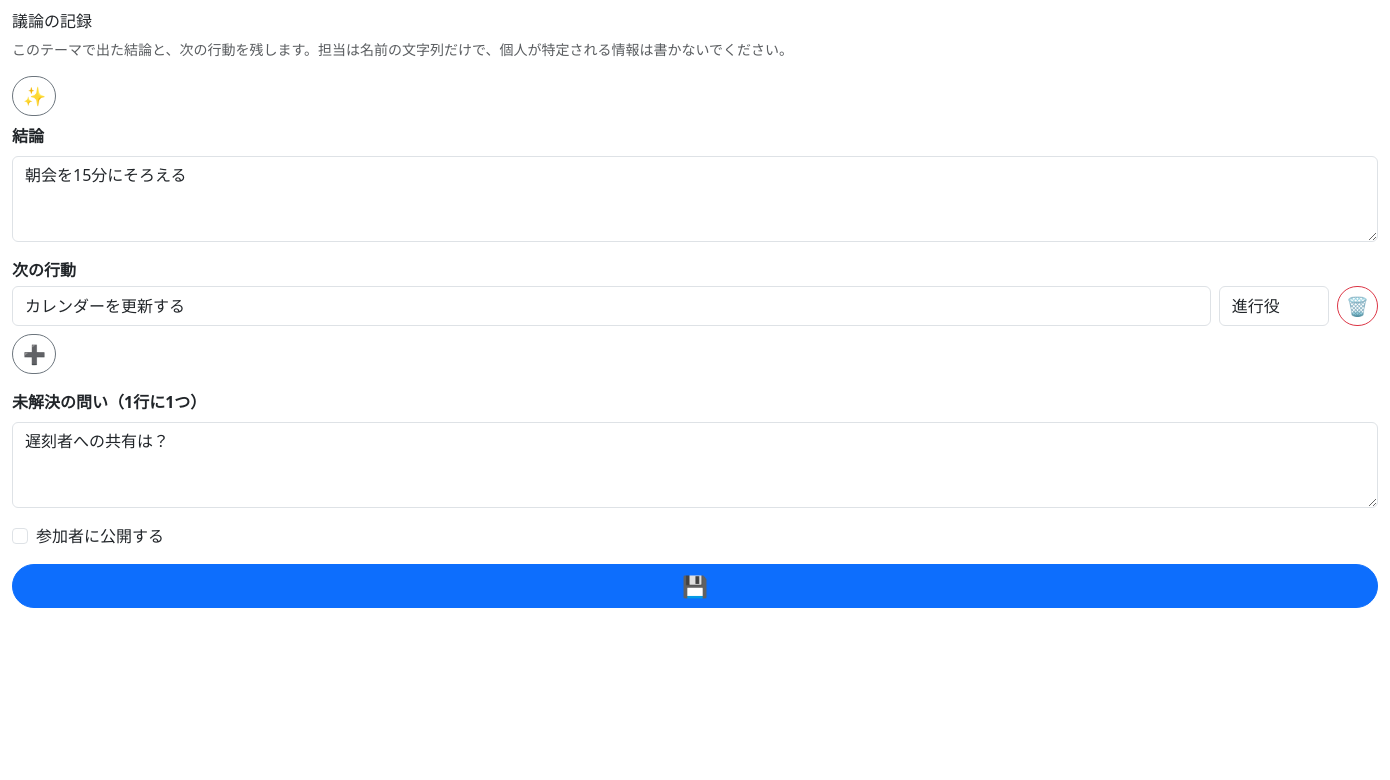
Test case: NotesEditor: 要約からの下書き › 取り込んでも、保存も公開もしない。AIの下書きと分かる注意を出し、既にある内容は消さない
The width and height of the screenshot is (1390, 780).
Click the button named "要約から下書きを取り込む".
click(34, 96)  # box top-left (12, 76), bottom-right (56, 116)
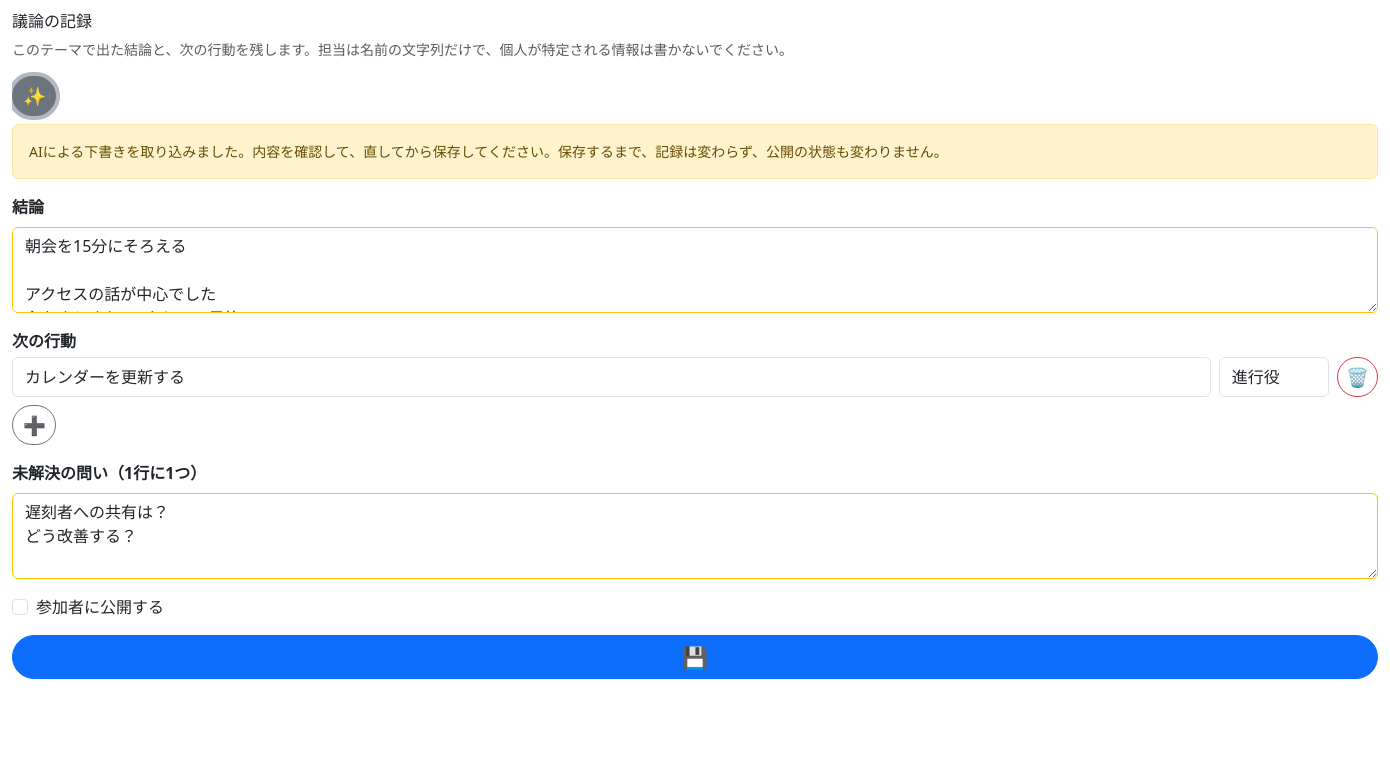
Check: the checkbox labelled "参加者に公開する" is not checked, box top-left (12, 599), bottom-right (28, 615)
Check: the message shows "AIによる下書きを取り込みました", box top-left (29, 142), bottom-right (948, 161)
